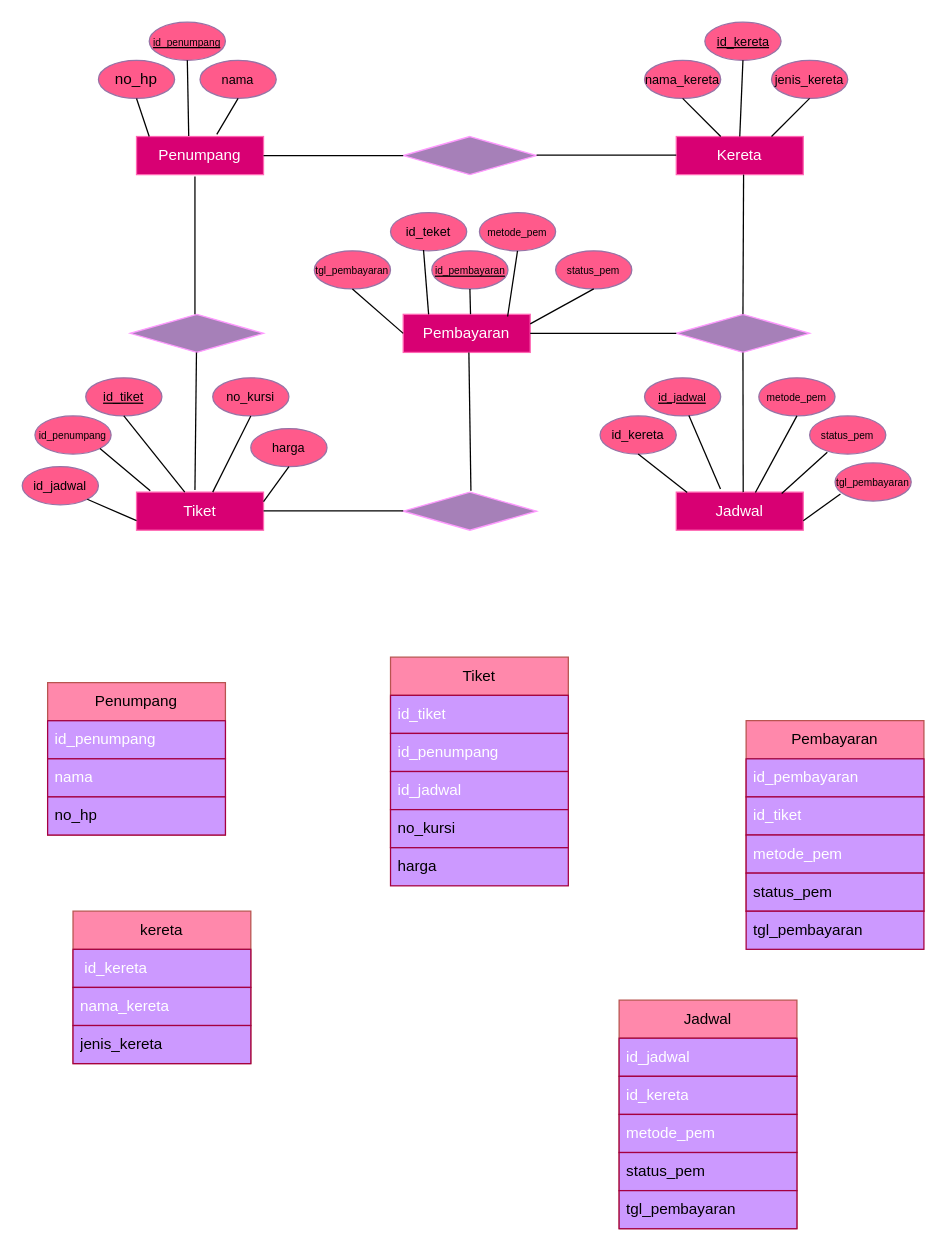
Image size: 946x1251. Some labels were removed from this diagram. Here are the shapes that lost their labels. From the top down, the centre of each, then its label:
At point 469,155: "Menggunakan".
At point 196,332: "Membeli".
At point 742,332: "Memiliki".
At point 469,510: "Perlu".
